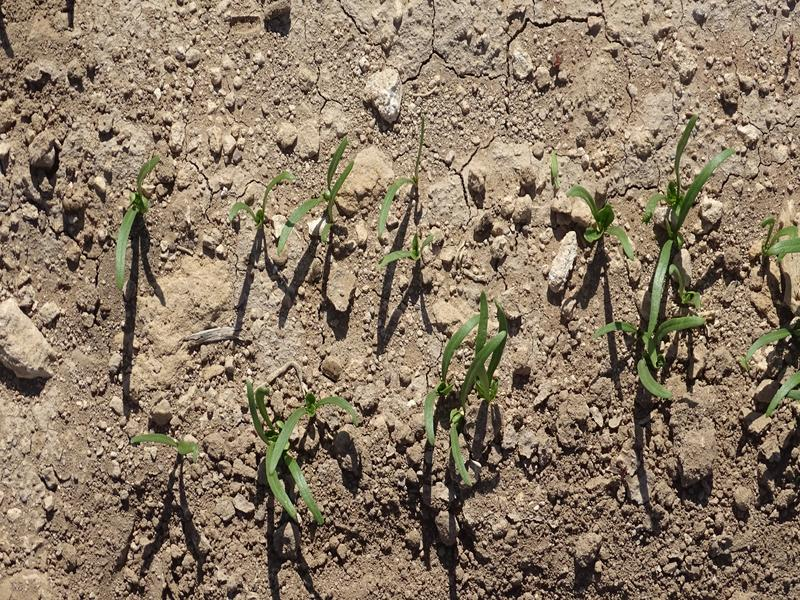Espinaca: (635, 138, 724, 394), (412, 293, 508, 485), (251, 385, 362, 532), (231, 142, 354, 249), (380, 122, 431, 266), (110, 151, 162, 289), (562, 184, 634, 252), (749, 318, 800, 407), (130, 430, 205, 462), (764, 216, 800, 260)
